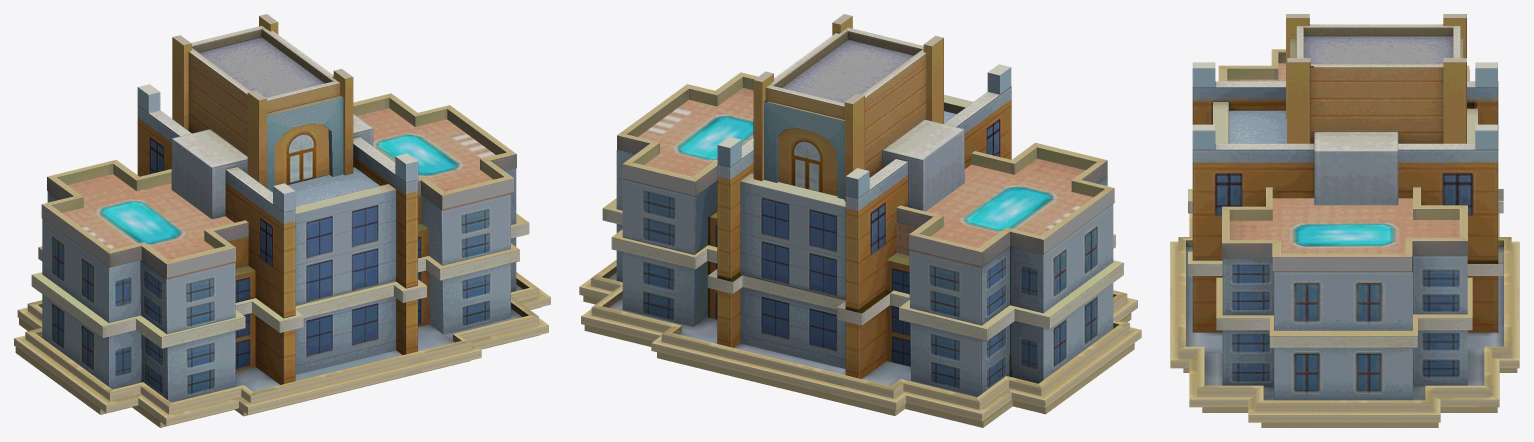
Rendered from house_02.obj.
3 renders of one model, left to right at view 1: azimuth 30°, elevation 25°; view 2: azimuth 150°, elevation 25°; view 3: azimuth 270°, elevation 25°, orthographic. The views are drawn at different scales.
Visible parts, largest first — view 1: juminding02; view 2: juminding02; view 3: juminding02.
Boxes of the visible parts, bbox=[...] form: juminding02: bbox=[14, 14, 550, 427]; juminding02: bbox=[579, 14, 1141, 427]; juminding02: bbox=[1170, 14, 1519, 427].
Size of the model in its own units: 4.64 by 2.63 by 3.02.
